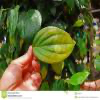Bell_pepper leaf: (32, 26, 77, 62)
